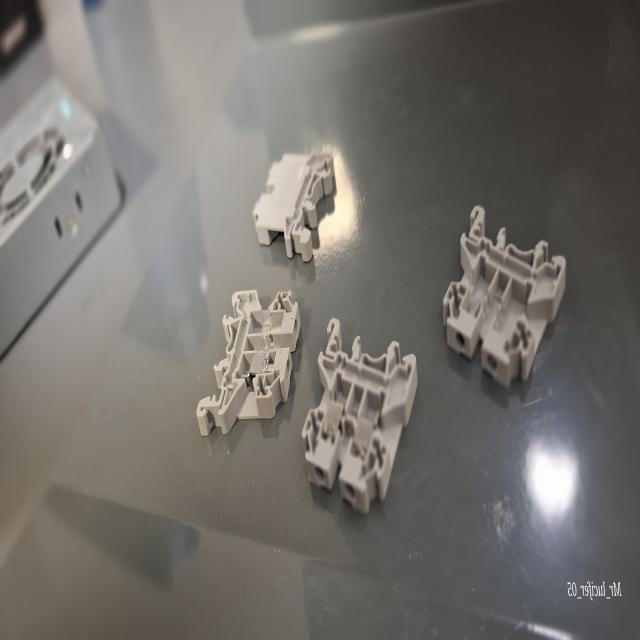Inverted: (252, 148, 336, 264)
Pass: (302, 314, 418, 516)
Reject: (442, 198, 568, 387), (196, 284, 299, 438)
